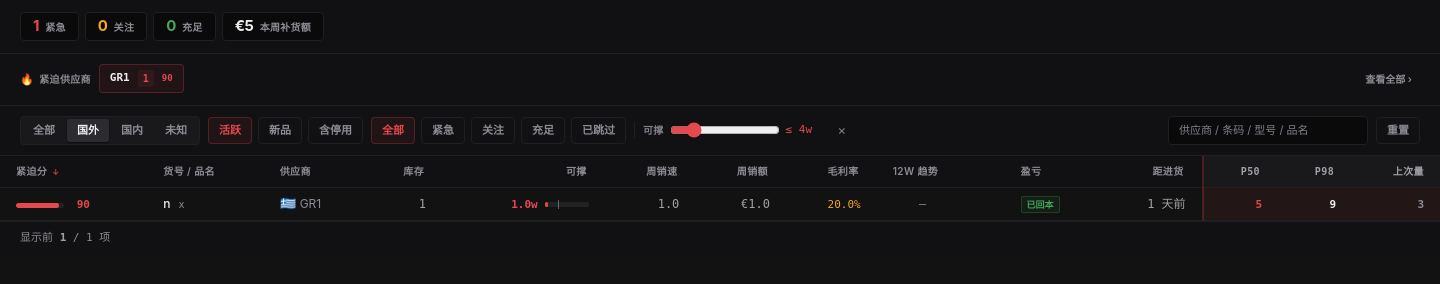
Test case: RestockPage › 排序变化收起已展开行
Click the button with class "rs-row" at (720, 204), box x1=0 y1=187 x2=1439 y2=221
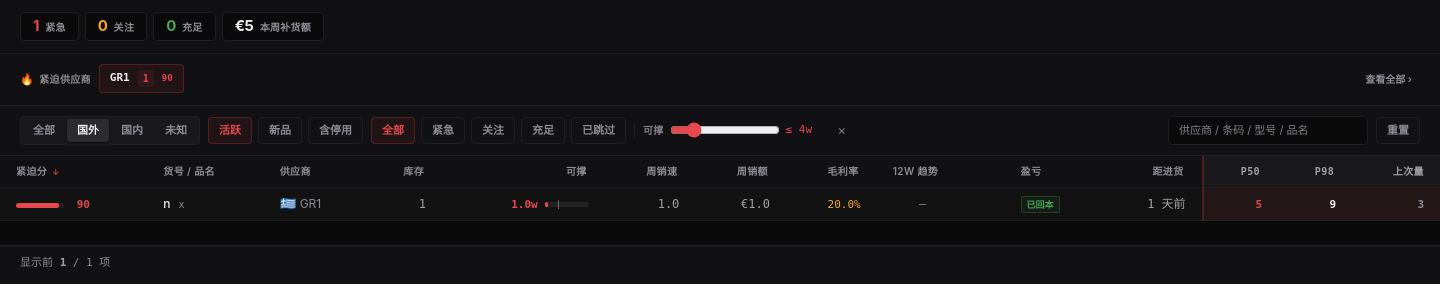
Expected: the number of rows with class "rs-drawer-row" is 1, x1=0 y1=221 x2=1439 y2=246
// 点表头排序列 → onSortChange 收起
Click the column heading "库存" at (404, 171), box x1=366 y1=156 x2=442 y2=187
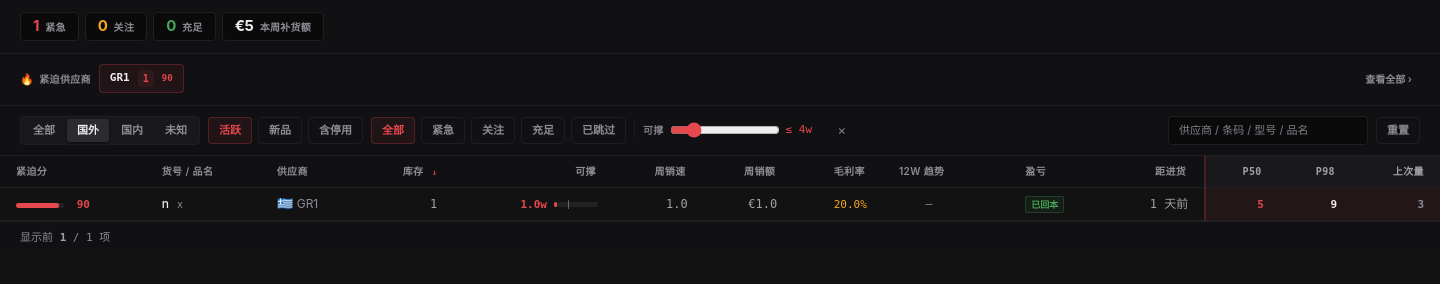
Expected: no rows with class "rs-drawer-row" are shown
